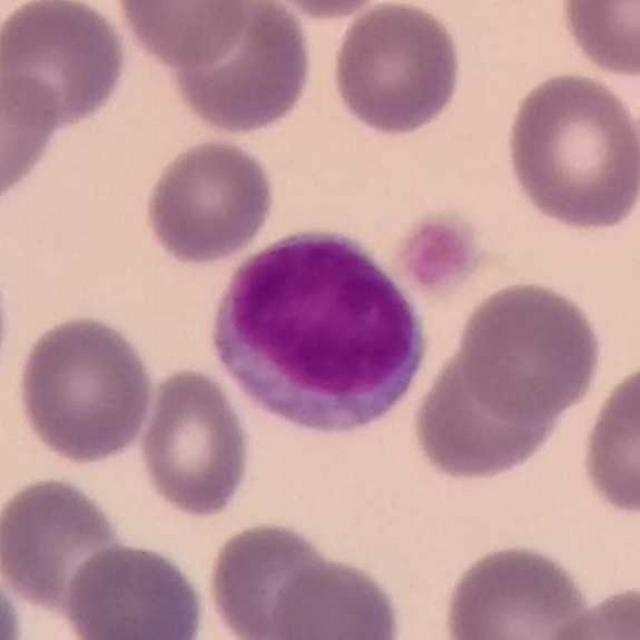Lymphocyte: (204, 220, 433, 438)
Platelets: (393, 206, 492, 295)
RBC: (408, 333, 576, 486), (501, 68, 640, 235), (12, 310, 157, 468), (454, 276, 607, 423), (161, 0, 316, 138), (328, 0, 467, 140), (0, 472, 130, 621), (136, 364, 254, 521), (140, 135, 280, 267), (203, 516, 344, 640), (0, 0, 131, 130), (437, 538, 598, 640), (61, 538, 210, 640), (267, 553, 406, 640), (577, 355, 640, 522), (111, 0, 253, 70), (0, 66, 65, 212), (556, 0, 640, 79), (541, 583, 640, 640), (252, 0, 395, 20), (0, 564, 27, 640)
